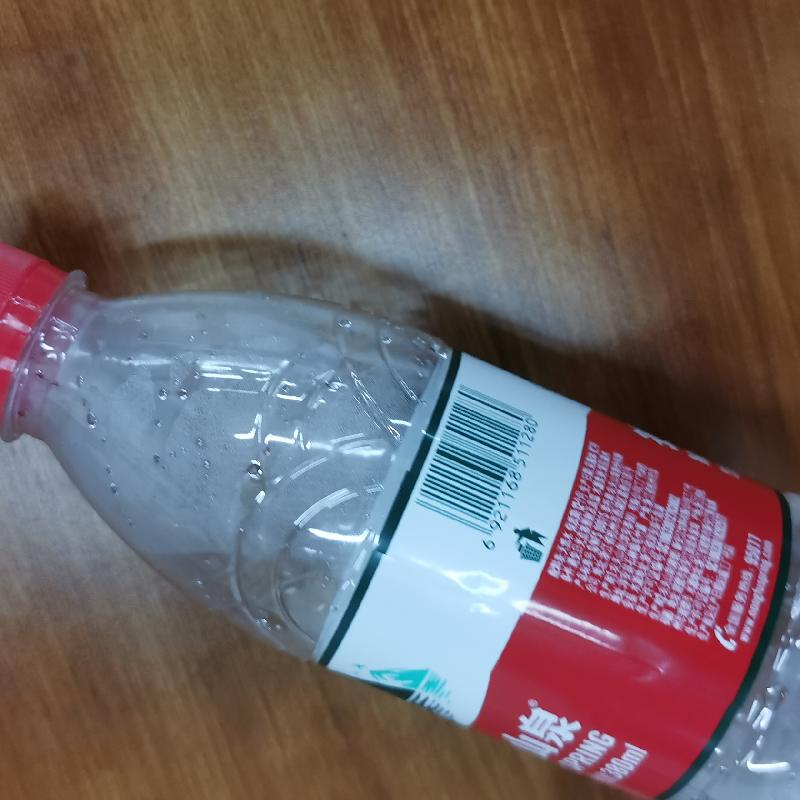bottles: (0, 230, 799, 799)
